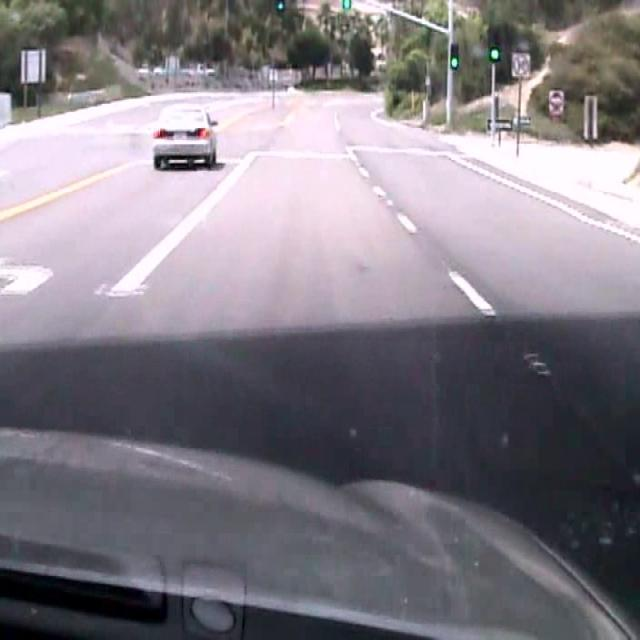noRightTurn: (510, 51, 531, 78)
